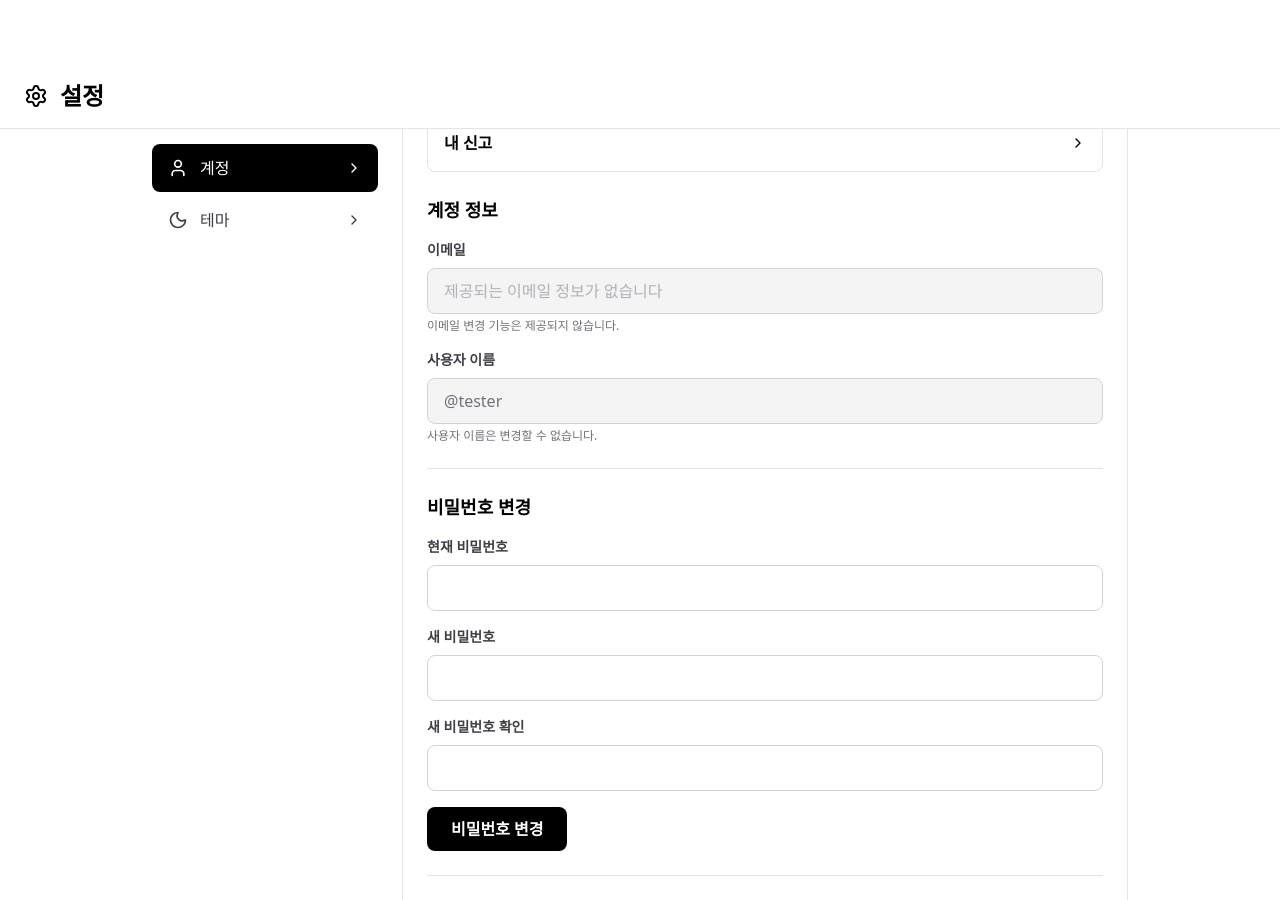
SettingsPage › announces a password mismatch and preserves all fields
The width and height of the screenshot is (1280, 900).
Type "current-password" into the password field labelled "현재 비밀번호". click: (765,588)
box: [427,565,1103,611]
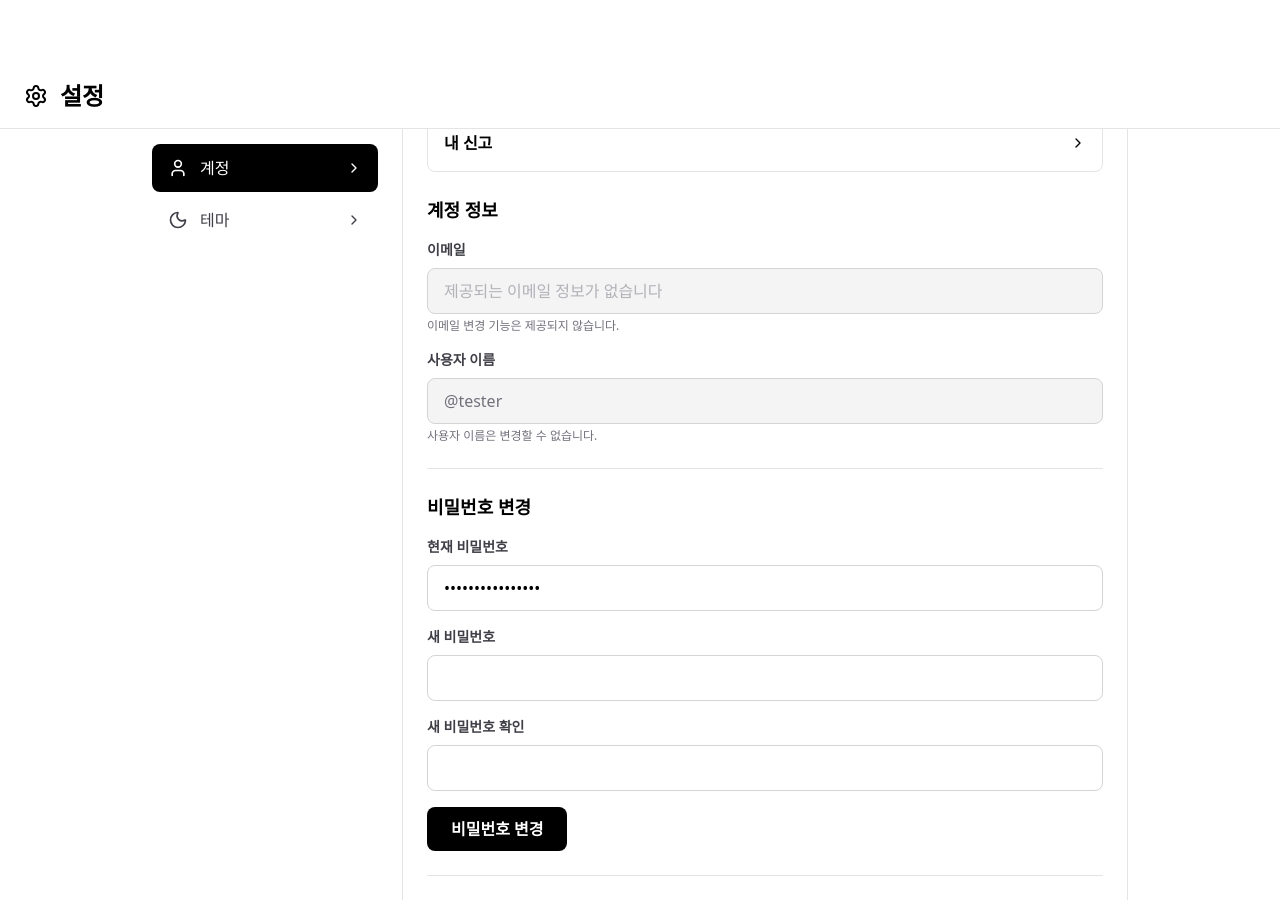
Type "new-password" into the password field labelled "새 비밀번호". click: (765,678)
box: [427,655,1103,701]
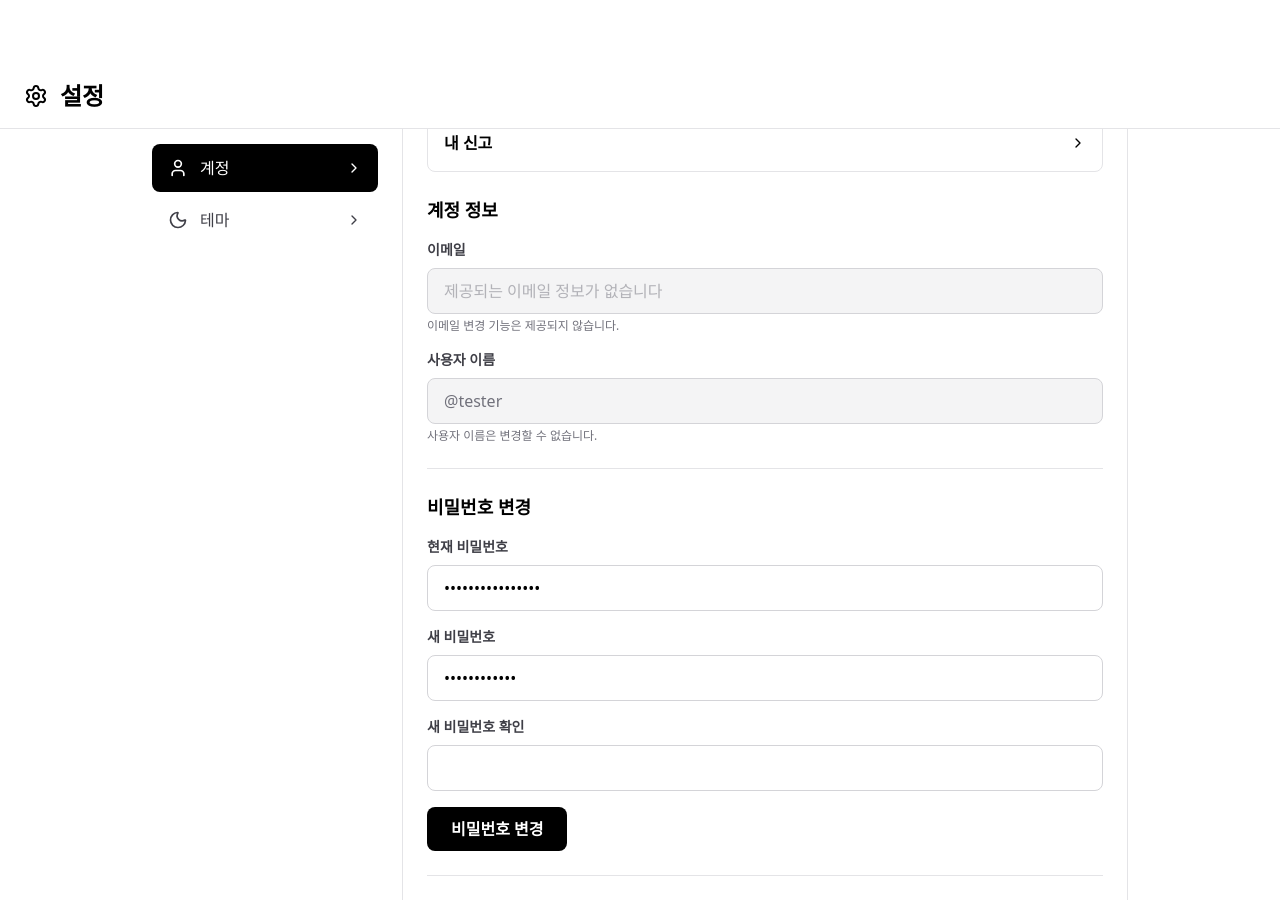
Type "different-password" into the password field labelled "새 비밀번호 확인". click: (765,768)
box: [427,745,1103,791]
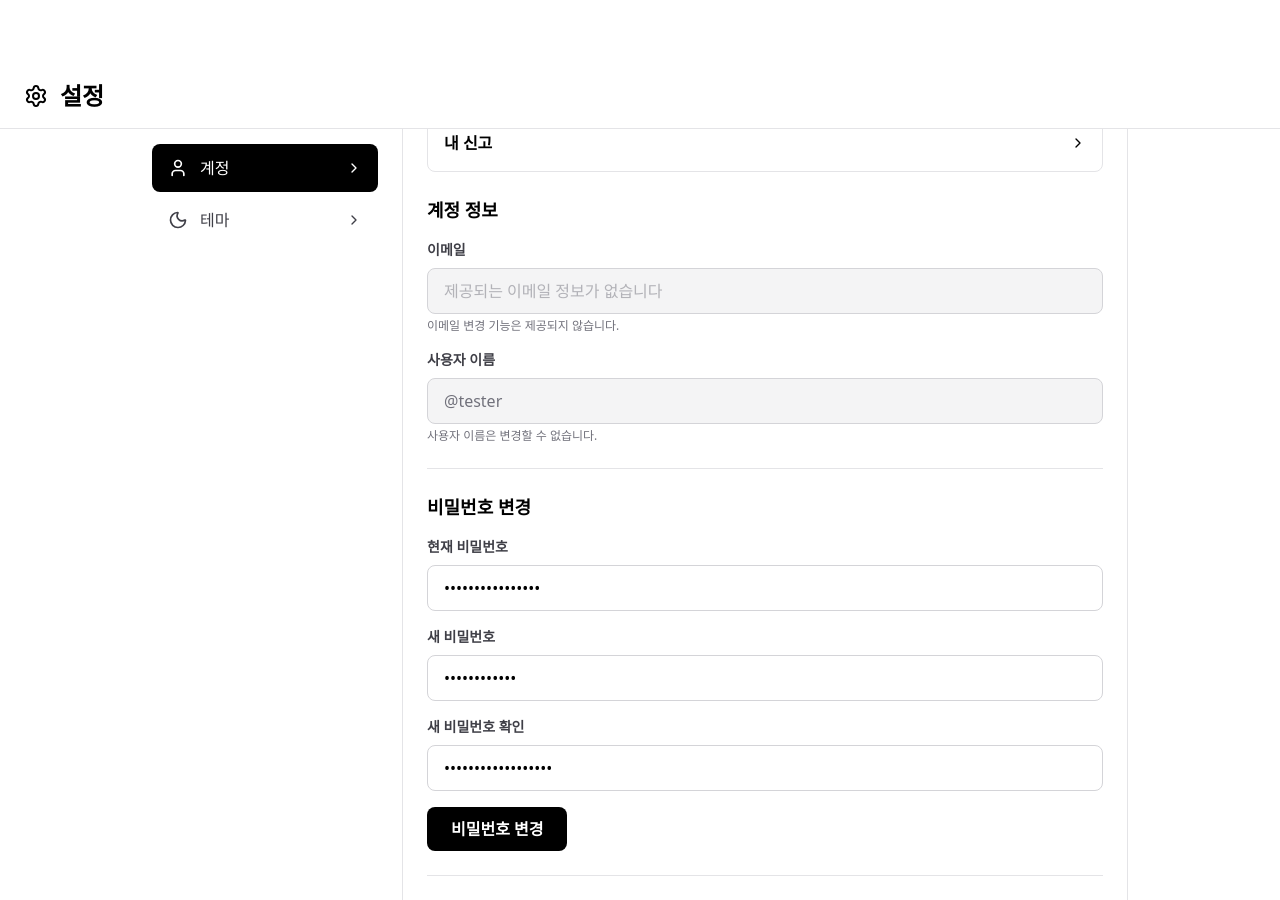
Click the button "비밀번호 변경". click: (497,829)
box: [427,807,568,851]
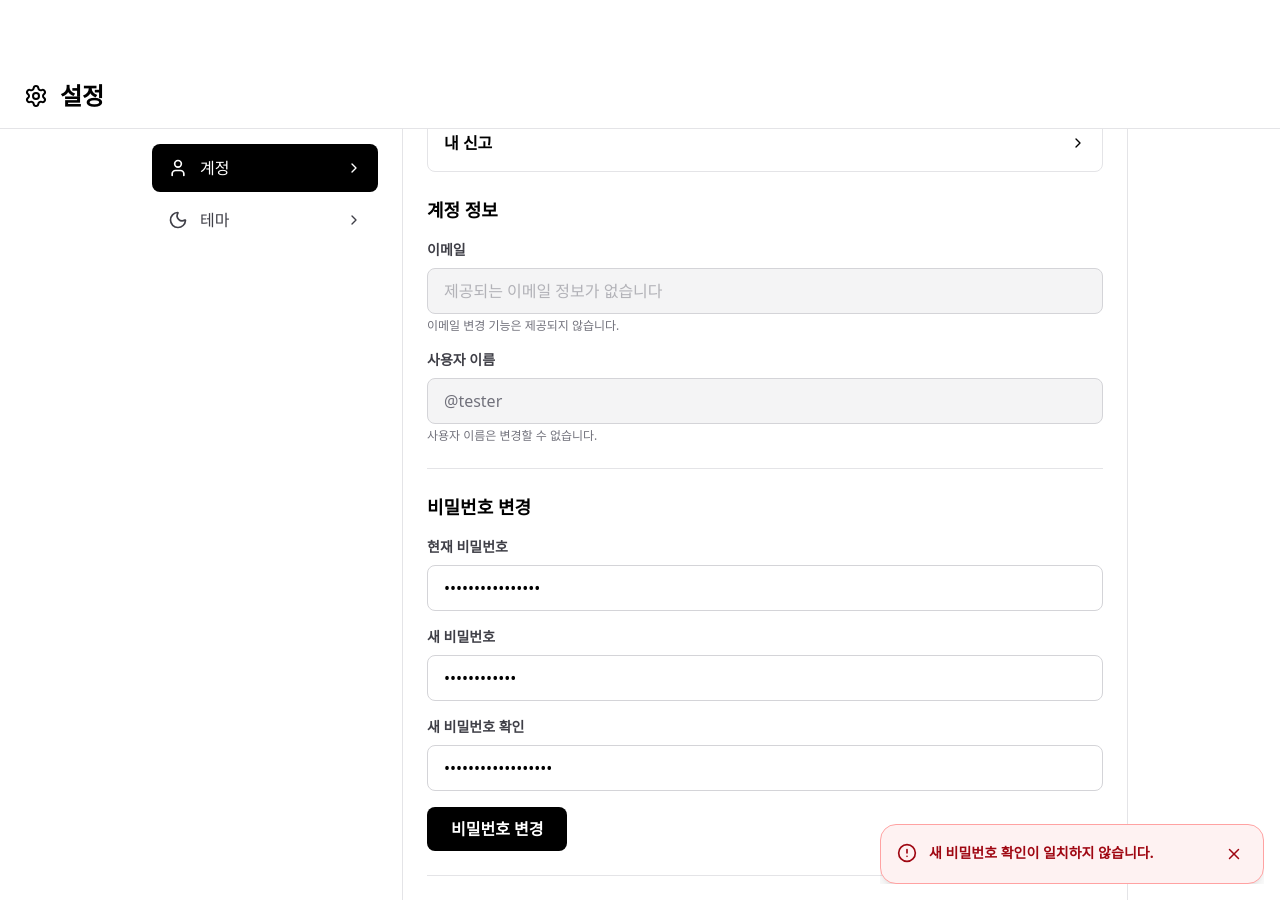
Result: the message reads "새 비밀번호 확인이 일치하지 않습니다." at [929,843,1154,862]
